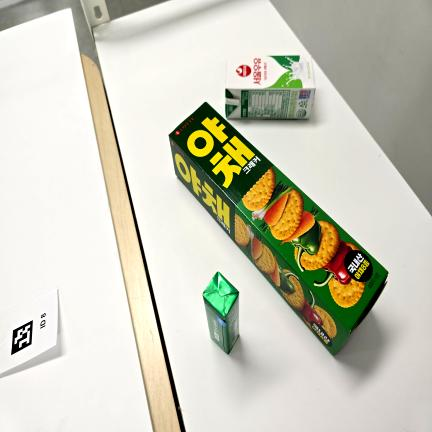cracker_vege: (169, 102, 388, 355)
gum_green: (203, 272, 239, 353)
milk_green: (225, 55, 315, 119)
